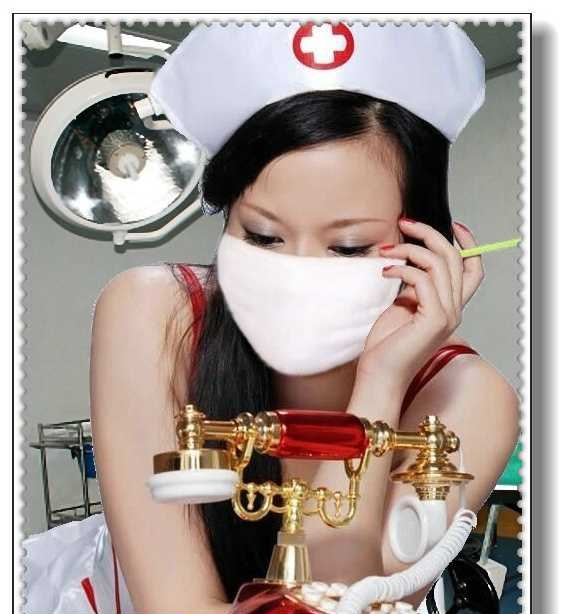face_mask: (218, 124, 403, 383)
